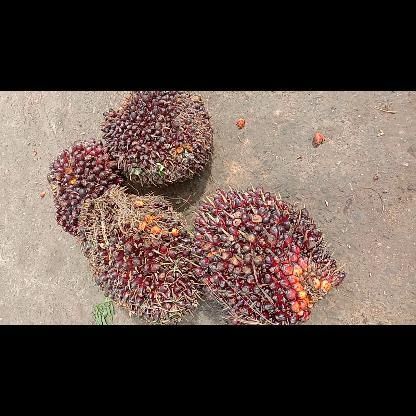Kurang masak: (190, 186, 344, 324), (91, 192, 203, 322), (98, 91, 216, 185), (46, 139, 124, 235)
